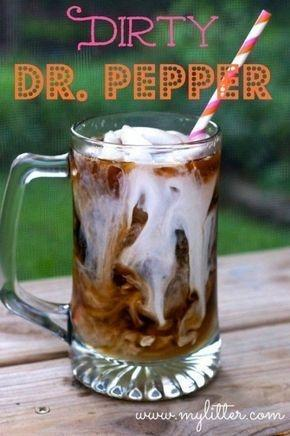glass-mug: (0, 105, 229, 404)
